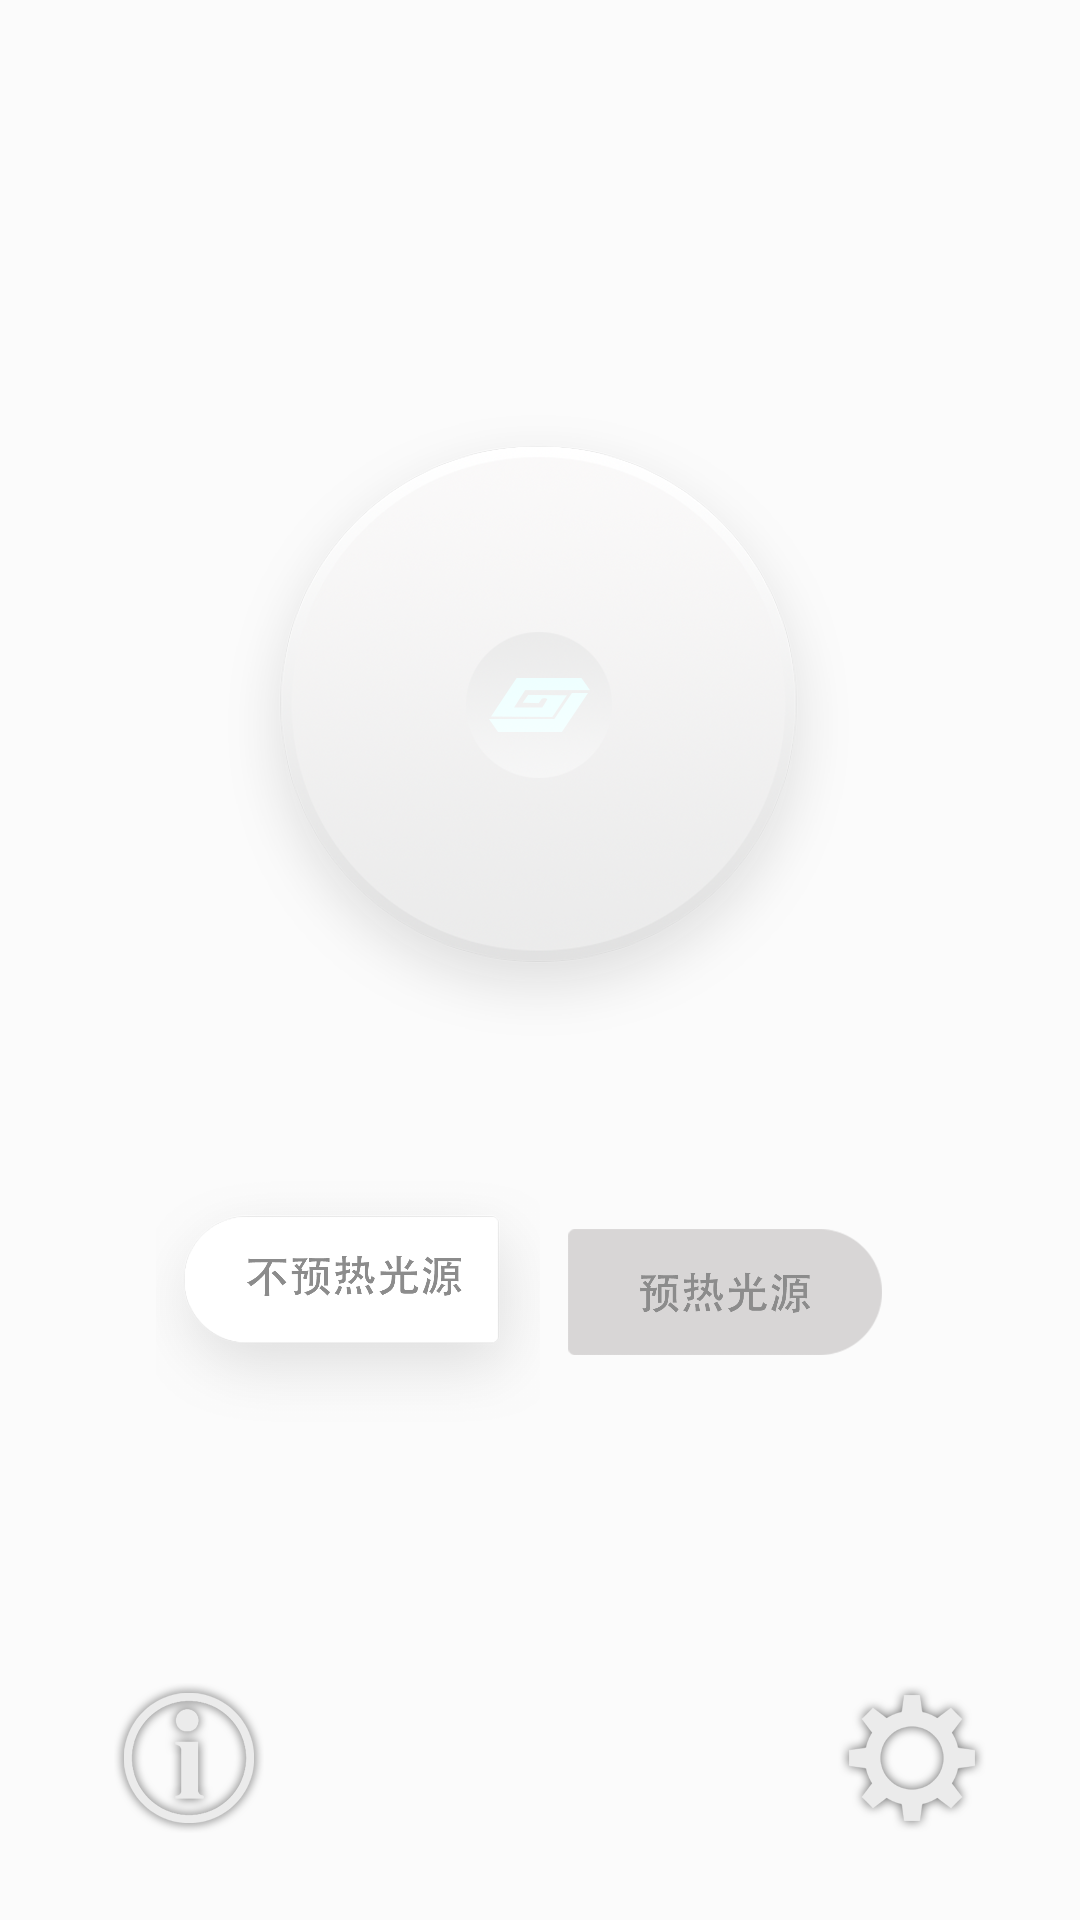

Screen size 1080x1920. Icon name, then its center in pixels as (x=x, y=y):
info flatx: (x=189, y=1758)
setting flatx: (x=912, y=1758)
